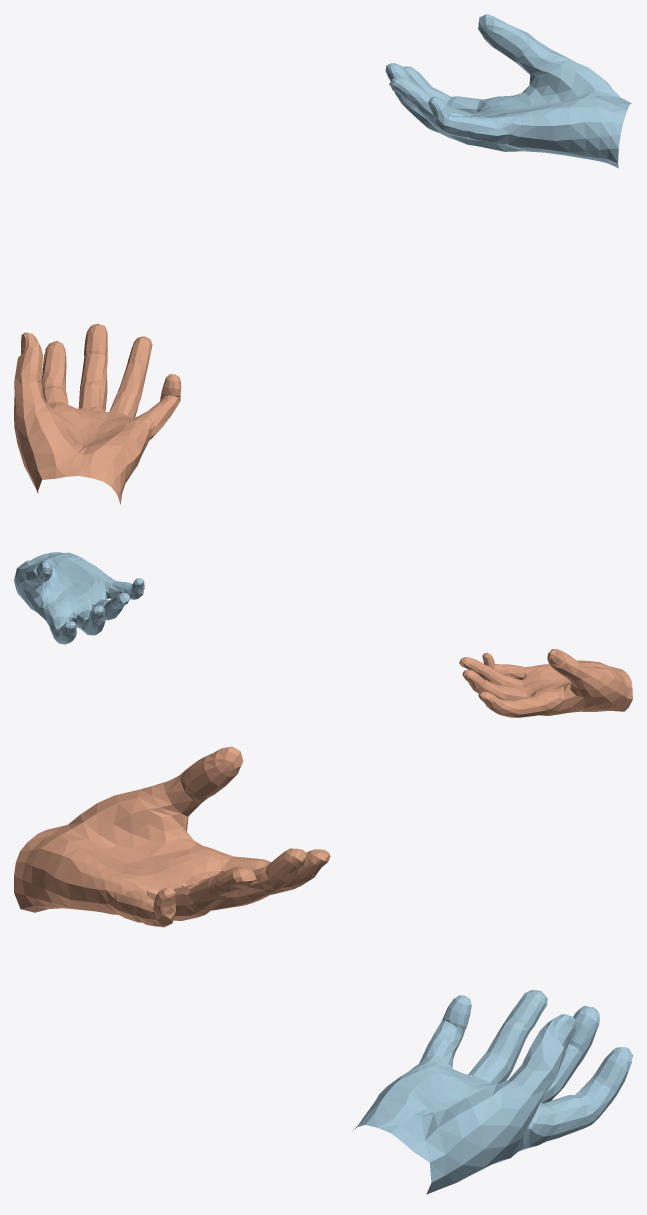
The model's file is frame_026.glb.
3 views of the same model, one above another, from view 1: azimuth 30°, elevation 25°; view 2: azimuth 150°, elevation 25°; view 3: azimuth 270°, elevation 25° (orthographic). The views are drawn at different scales.
Parts seen in each view (by area): view 1: world; view 2: world; view 3: world.
Boxes of the visible parts, x1=… form: world: x1=14, y1=14, x2=631, y2=504; world: x1=14, y1=552, x2=632, y2=717; world: x1=14, y1=746, x2=632, y2=1194.
Size of the model in its own units: 0.5339 by 0.1468 by 0.3082.
